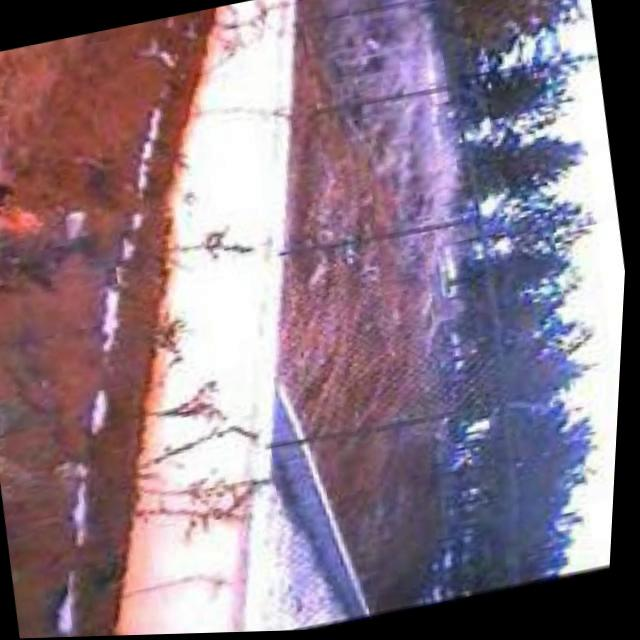fire: (0, 122, 60, 250)
